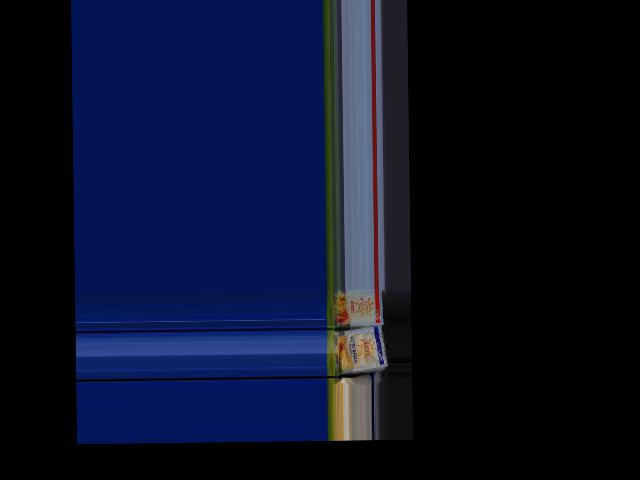cheese: (325, 287, 386, 326)
